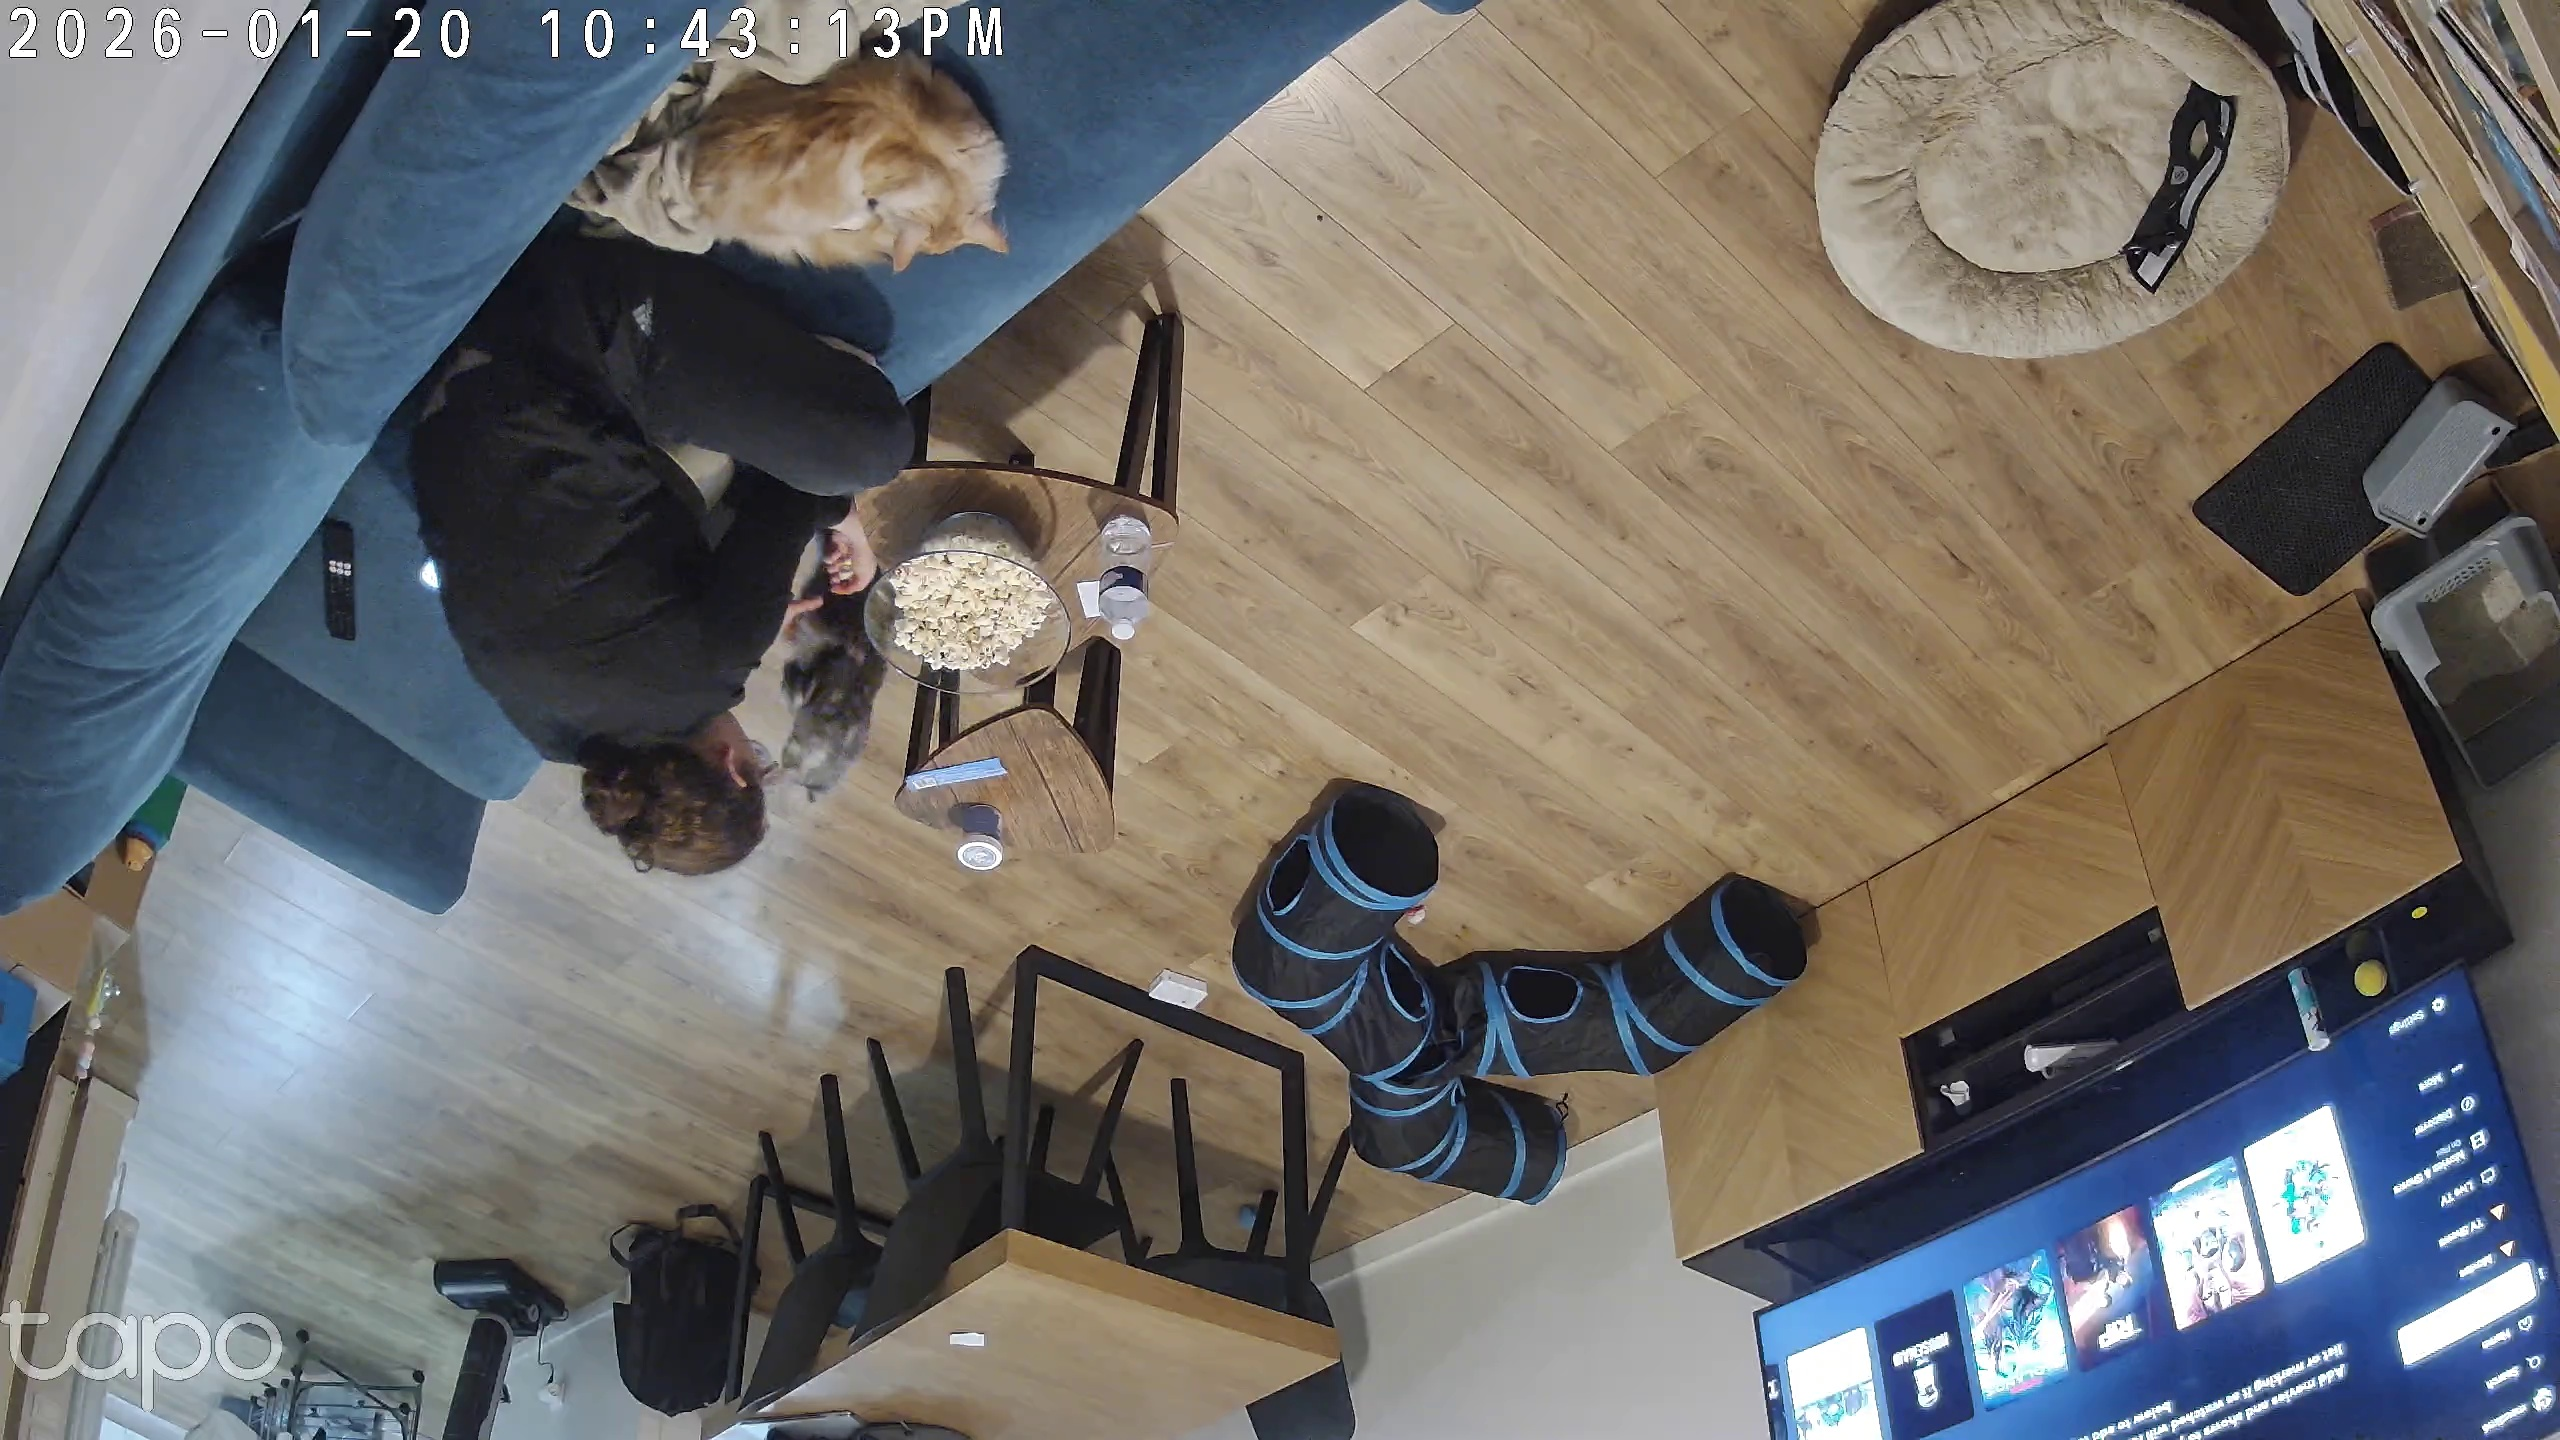Nala: (753, 591, 909, 828)
Simba: (564, 35, 1036, 288)
